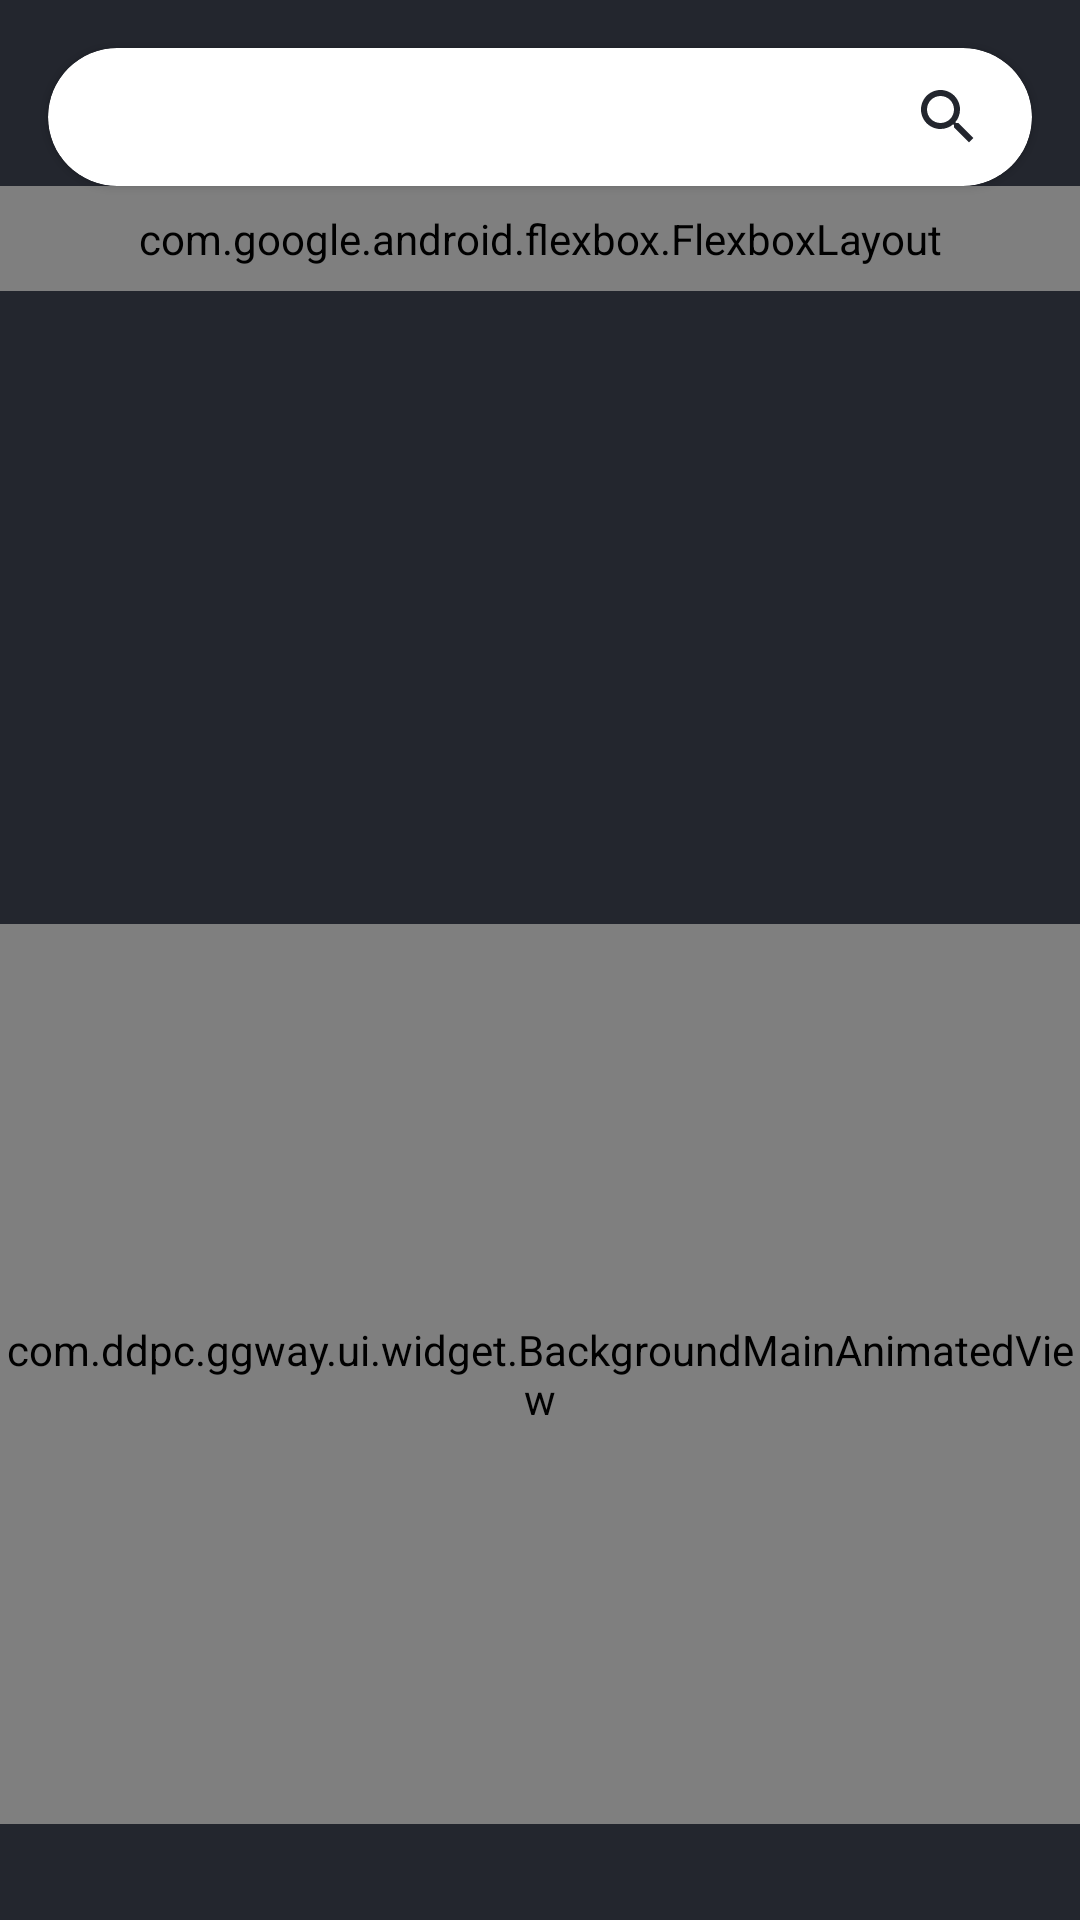

Where to tap for icons on this 1080px×1920px app screen, as (x=x, y=y):
search: (x=948, y=117)
